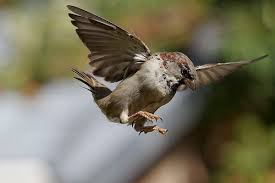hsparrow: (64, 2, 269, 139)
